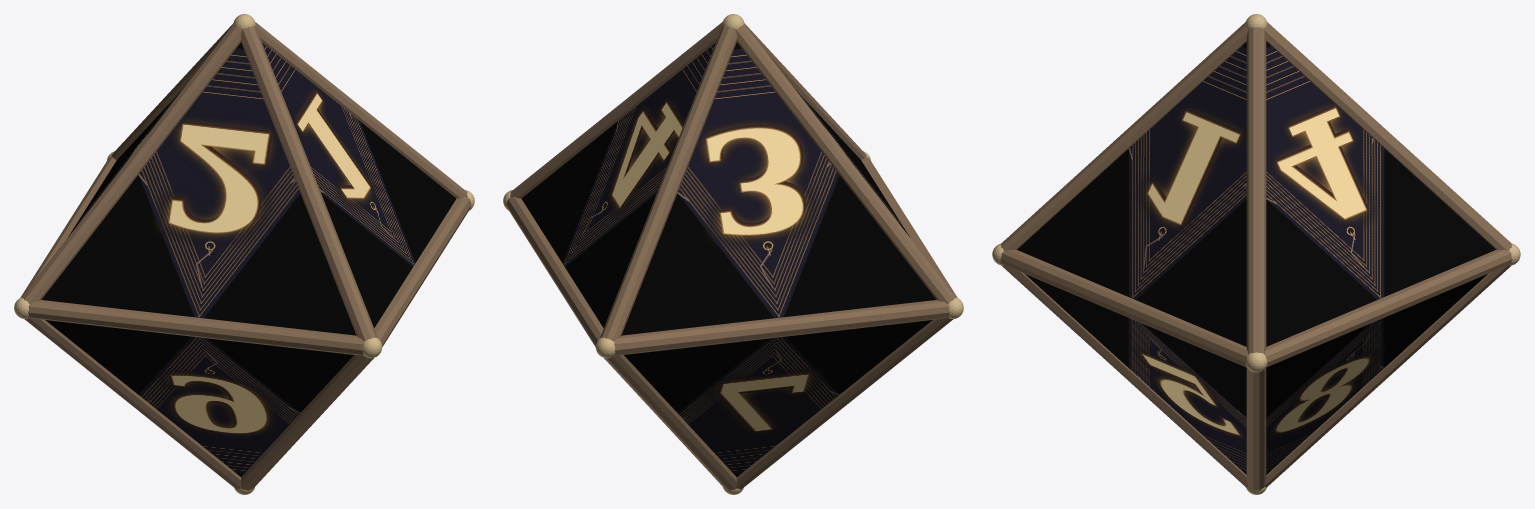
Rendered from SGLD_D8_DIE_OF_UNMAKING_v0.2-P_UNAPPROVED.glb.
3 renders of one model, left to right at view 1: azimuth 30°, elevation 25°; view 2: azimuth 150°, elevation 25°; view 3: azimuth 270°, elevation 25°, orthographic.
Visible parts, largest first — view 1: FACE_02_TEXTURED, FACE_06_TEXTURED, FACE_01_TEXTURED, EDGE_06_BASE, EDGE_08_BASE, EDGE_04_BASE, EDGE_05_BASE, EDGE_00_BASE, EDGE_10_BASE, EDGE_02_BASE, EDGE_09_BASE, EDGE_07_BASE (+1 smaller); view 2: FACE_03_TEXTURED, FACE_07_TEXTURED, FACE_04_TEXTURED, EDGE_07_BASE, EDGE_09_BASE, EDGE_04_BASE, EDGE_05_BASE, EDGE_00_BASE, EDGE_11_BASE, EDGE_03_BASE, EDGE_08_BASE, EDGE_06_BASE (+1 smaller); view 3: FACE_01_TEXTURED, FACE_04_TEXTURED, FACE_05_TEXTURED, FACE_08_TEXTURED, EDGE_00_BASE, EDGE_02_BASE, EDGE_03_BASE, EDGE_08_BASE, EDGE_09_BASE, EDGE_10_BASE, EDGE_11_BASE, EDGE_01_BASE.
Boxes of the visible parts, box(x1,y1,x2,y2) form: FACE_02_TEXTURED: box(41, 42, 356, 335); FACE_06_TEXTURED: box(45, 320, 353, 476); FACE_01_TEXTURED: box(262, 43, 456, 327); EDGE_06_BASE: box(28, 300, 363, 355); EDGE_08_BASE: box(240, 25, 377, 341); EDGE_04_BASE: box(21, 24, 241, 303); EDGE_05_BASE: box(24, 317, 241, 489); EDGE_00_BASE: box(255, 22, 467, 198); EDGE_10_BASE: box(240, 355, 373, 490); EDGE_02_BASE: box(374, 196, 471, 346); EDGE_09_BASE: box(111, 23, 233, 159); EDGE_07_BASE: box(20, 156, 116, 297); FACE_03_TEXTURED: box(621, 42, 936, 335); FACE_07_TEXTURED: box(624, 320, 932, 476); FACE_04_TEXTURED: box(521, 43, 715, 327); EDGE_07_BASE: box(614, 300, 949, 355); EDGE_09_BASE: box(600, 25, 737, 341); EDGE_04_BASE: box(736, 24, 956, 303); EDGE_05_BASE: box(736, 317, 953, 489); EDGE_00_BASE: box(510, 22, 722, 198); EDGE_11_BASE: box(604, 355, 737, 490); EDGE_03_BASE: box(506, 196, 603, 346); EDGE_08_BASE: box(744, 23, 866, 159); EDGE_06_BASE: box(861, 156, 957, 297); FACE_01_TEXTURED: box(1017, 42, 1246, 346); FACE_04_TEXTURED: box(1266, 42, 1495, 346); FACE_05_TEXTURED: box(1025, 274, 1246, 474); FACE_08_TEXTURED: box(1266, 274, 1487, 474); EDGE_00_BASE: box(1246, 27, 1266, 354); EDGE_02_BASE: box(1000, 249, 1248, 367); EDGE_03_BASE: box(1264, 249, 1512, 367); EDGE_08_BASE: box(1000, 22, 1248, 250); EDGE_09_BASE: box(1264, 22, 1512, 250); EDGE_10_BASE: box(1001, 265, 1248, 487); EDGE_11_BASE: box(1264, 265, 1511, 487); EDGE_01_BASE: box(1246, 368, 1266, 490).
Bounding box in the file's own units: 0.0366 × 0.0366 × 0.0366.
8 materials, 8 textured.
